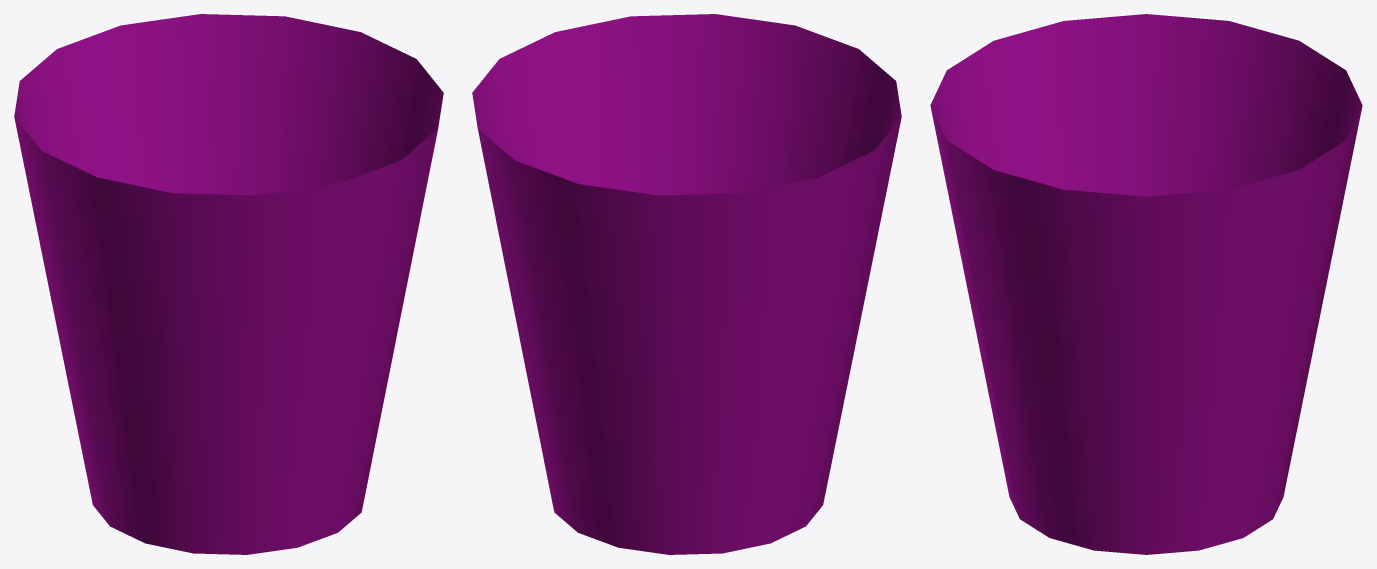
Rendered from VFX_Coil_02.fbx.
The picture shows the model from 3 angles, left to right: view 1: azimuth 30°, elevation 25°; view 2: azimuth 150°, elevation 25°; view 3: azimuth 270°, elevation 25°; orthographic projection.
Parts seen in each view (by area): view 1: VFX_Coil_02; view 2: VFX_Coil_02; view 3: VFX_Coil_02.
Part boxes in pixels (bbox=[...]): VFX_Coil_02: bbox=[14, 14, 443, 554]; VFX_Coil_02: bbox=[472, 14, 901, 554]; VFX_Coil_02: bbox=[930, 14, 1362, 554].
Size of the model in its own units: 133 by 133 by 133.
